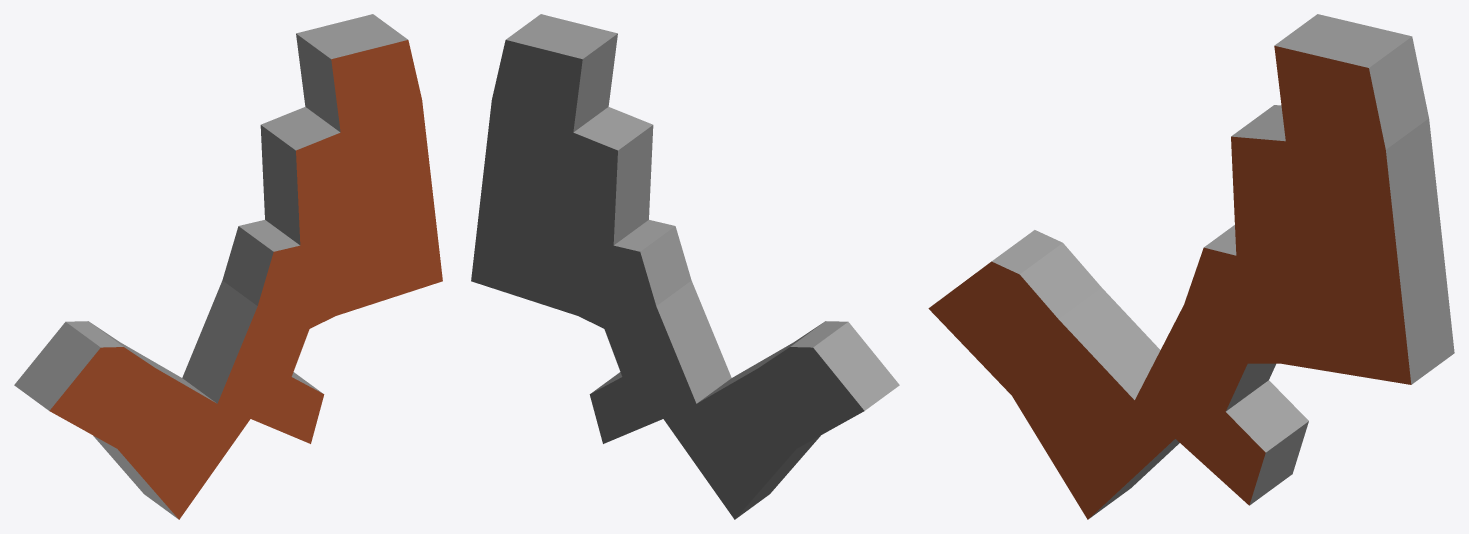
The model's file is construction_4079_assumed_A_Casa_h6m.obj.
3 renders of one model, left to right at view 1: azimuth 30°, elevation 25°; view 2: azimuth 150°, elevation 25°; view 3: azimuth 330°, elevation 25°, orthographic. The views are drawn at different scales.
Visible parts, largest first — view 1: construction_4079_assumed_A_Casa; view 2: construction_4079_assumed_A_Casa; view 3: construction_4079_assumed_A_Casa.
Part boxes in pixels (x1,y1,x2,y2): construction_4079_assumed_A_Casa: [14, 14, 442, 519]; construction_4079_assumed_A_Casa: [471, 14, 899, 519]; construction_4079_assumed_A_Casa: [928, 14, 1454, 519].
Bounding box in the file's own units: 38.64 × 39.79 × 6.
